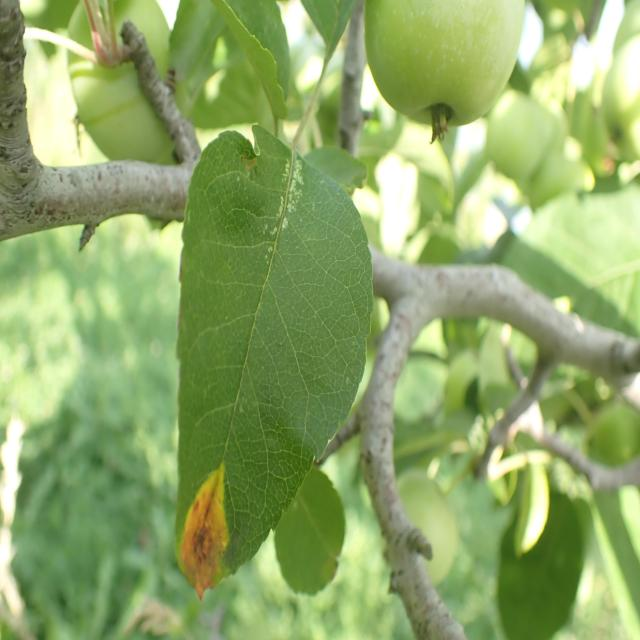Rust: (168, 461, 258, 602)
